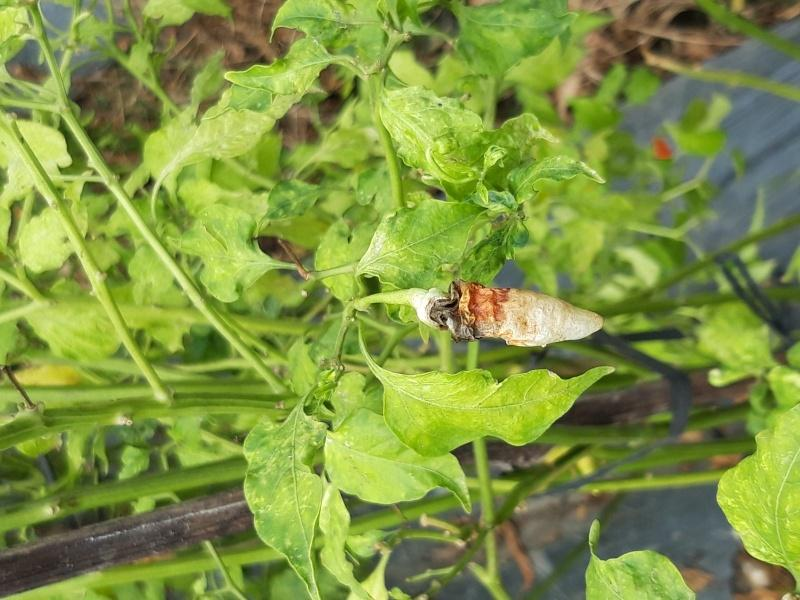antraknosa: (422, 284, 604, 348)
